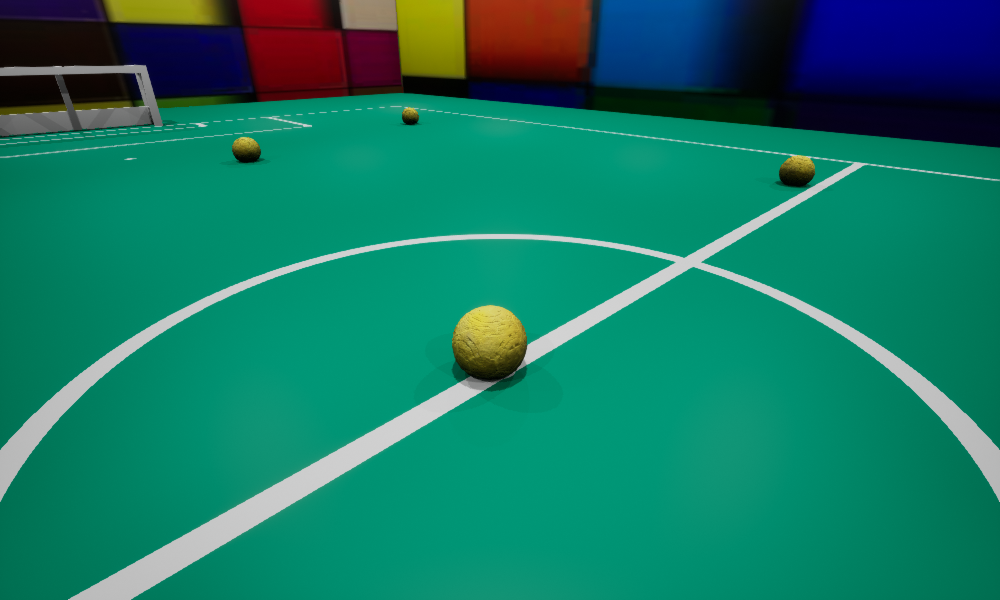b: (452, 305, 526, 379), (779, 155, 814, 185), (232, 137, 260, 161), (402, 107, 418, 123)
g: (0, 65, 162, 135)
